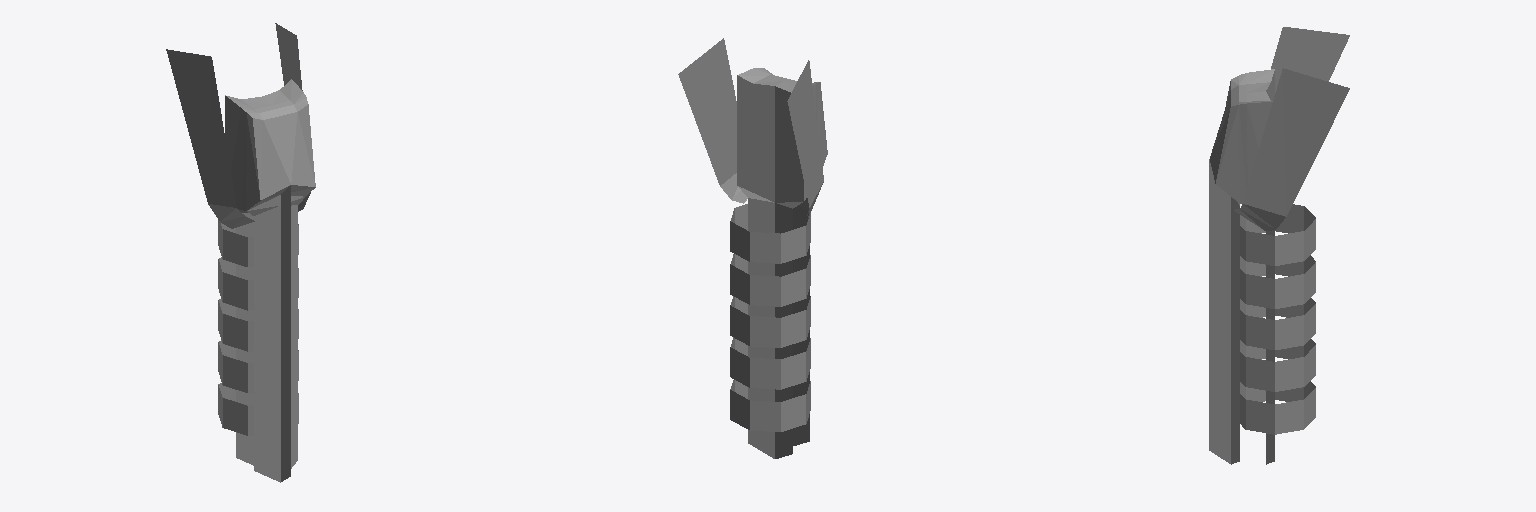
The model's file is taste.obj.
The picture shows the model from 3 angles: view 1: azimuth 30°, elevation 25°; view 2: azimuth 150°, elevation 25°; view 3: azimuth 270°, elevation 25°; orthographic projection.
Visible parts, largest first — view 1: head, ear_R, wheel_b, wheel_e, wheel_d, wheel_c, wheel_a, ear_L; view 2: head, ear_L, wheel_a, wheel_b, wheel_e, wheel_d, ear_R, wheel_c; view 3: head, ear_L, wheel_a, wheel_b, wheel_e, wheel_d, ear_R, wheel_c.
Part boxes in pixels (bbox=[...]): head: bbox=[225, 79, 315, 482]; ear_R: bbox=[166, 49, 254, 228]; wheel_b: bbox=[218, 257, 298, 310]; wheel_e: bbox=[218, 383, 298, 435]; wheel_d: bbox=[218, 340, 298, 392]; wheel_c: bbox=[218, 299, 298, 351]; wheel_a: bbox=[218, 220, 298, 267]; ear_L: bbox=[275, 23, 310, 211]; head: bbox=[737, 68, 827, 458]; ear_L: bbox=[678, 38, 747, 203]; wheel_a: bbox=[730, 204, 810, 263]; wheel_b: bbox=[730, 253, 810, 306]; wheel_e: bbox=[730, 379, 810, 431]; wheel_d: bbox=[730, 337, 810, 389]; ear_R: bbox=[787, 60, 823, 218]; wheel_c: bbox=[730, 295, 810, 347]; head: bbox=[1209, 69, 1274, 464]; ear_L: bbox=[1234, 68, 1349, 231]; wheel_a: bbox=[1240, 204, 1315, 265]; wheel_b: bbox=[1240, 255, 1315, 308]; wheel_e: bbox=[1240, 381, 1315, 434]; wheel_d: bbox=[1240, 339, 1315, 391]; ear_R: bbox=[1271, 27, 1349, 92]; wheel_c: bbox=[1240, 298, 1315, 349].
Bounding box in the file's own units: 154 × 561 × 172.